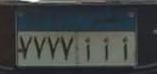7: (61, 34, 75, 62), (47, 36, 60, 61), (33, 35, 46, 60), (19, 35, 32, 59)
alif: (82, 37, 91, 63), (121, 37, 131, 60), (102, 37, 111, 60)
